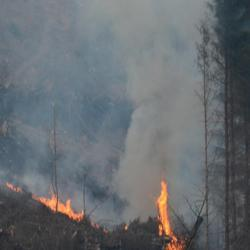fire: (158, 189, 171, 232), (61, 204, 85, 219), (42, 197, 59, 208)
